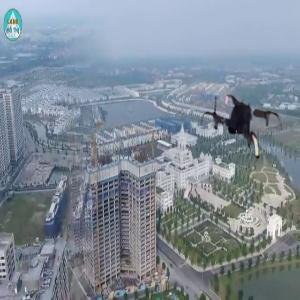drone: (198, 87, 285, 174)
